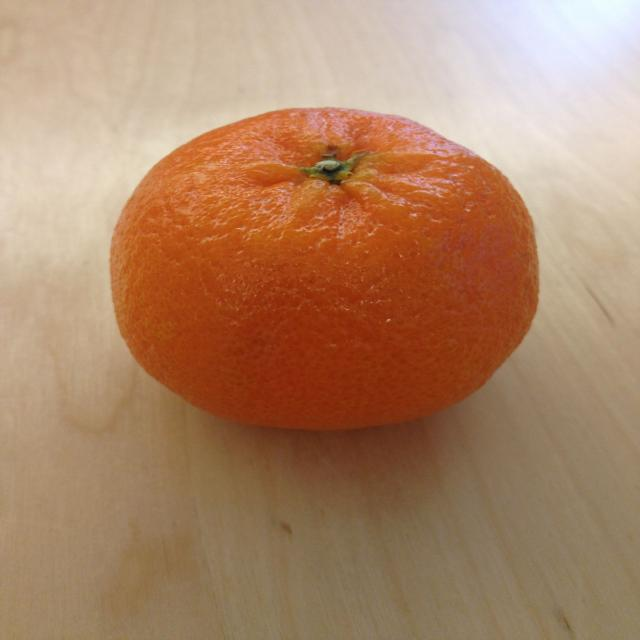Orange: (106, 110, 544, 432)
